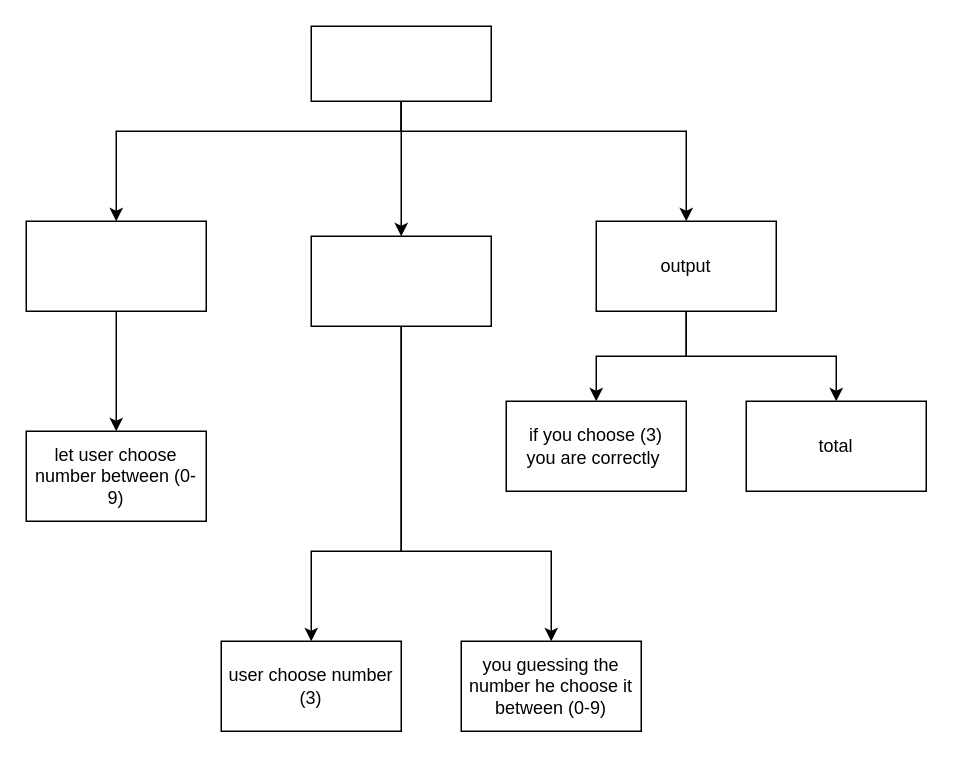
The diagram is 953 pixels wide and 758 high, and some of its shapes have lost their labels. Each missing label, with the centre of its shape:
guessing game: (x=400, y=63)
input: (x=115, y=265)
process: (x=400, y=280)
